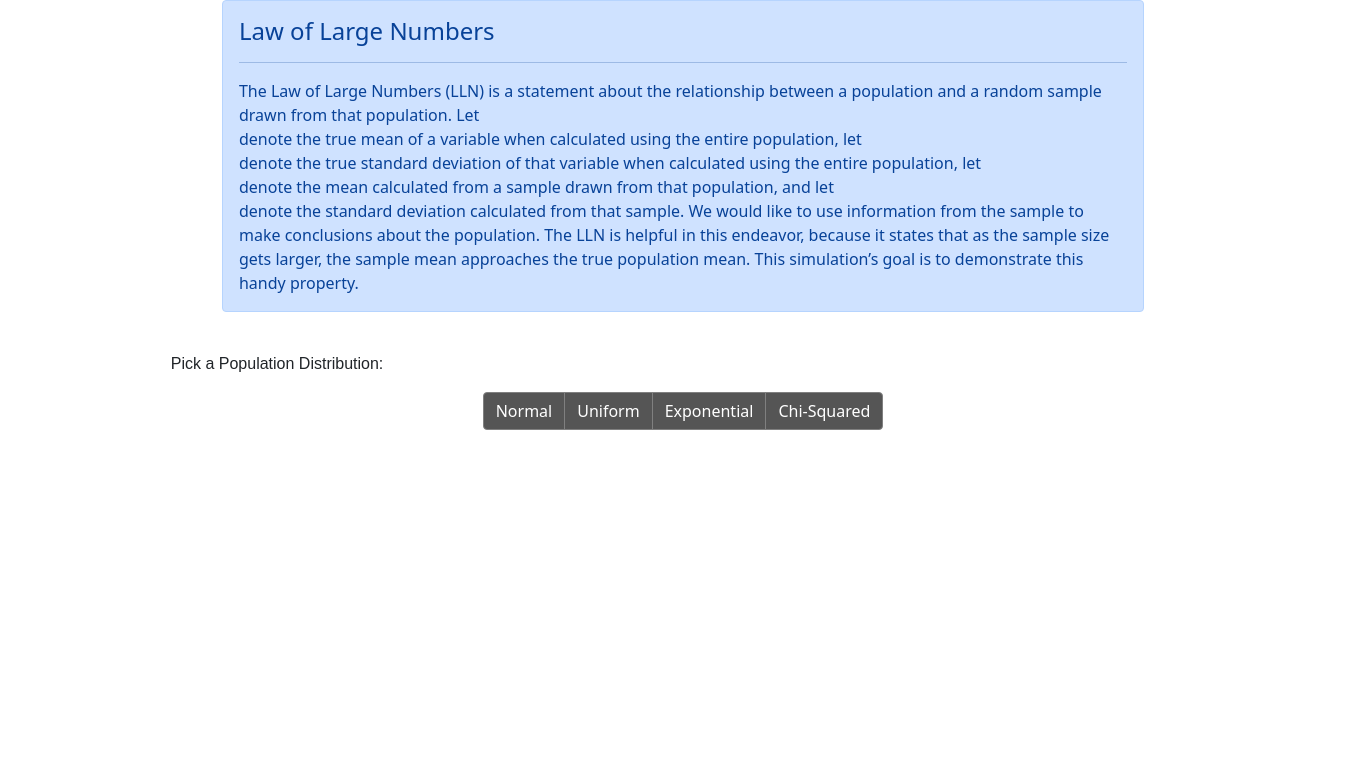
Scenario: LawOfLargeNumbers integration tests › selecting population shape reveals module contents
This screenshot has width=1366, height=768.
Click the button "Normal" at (524,411), box [483,392,565,430]
(page scrolled)
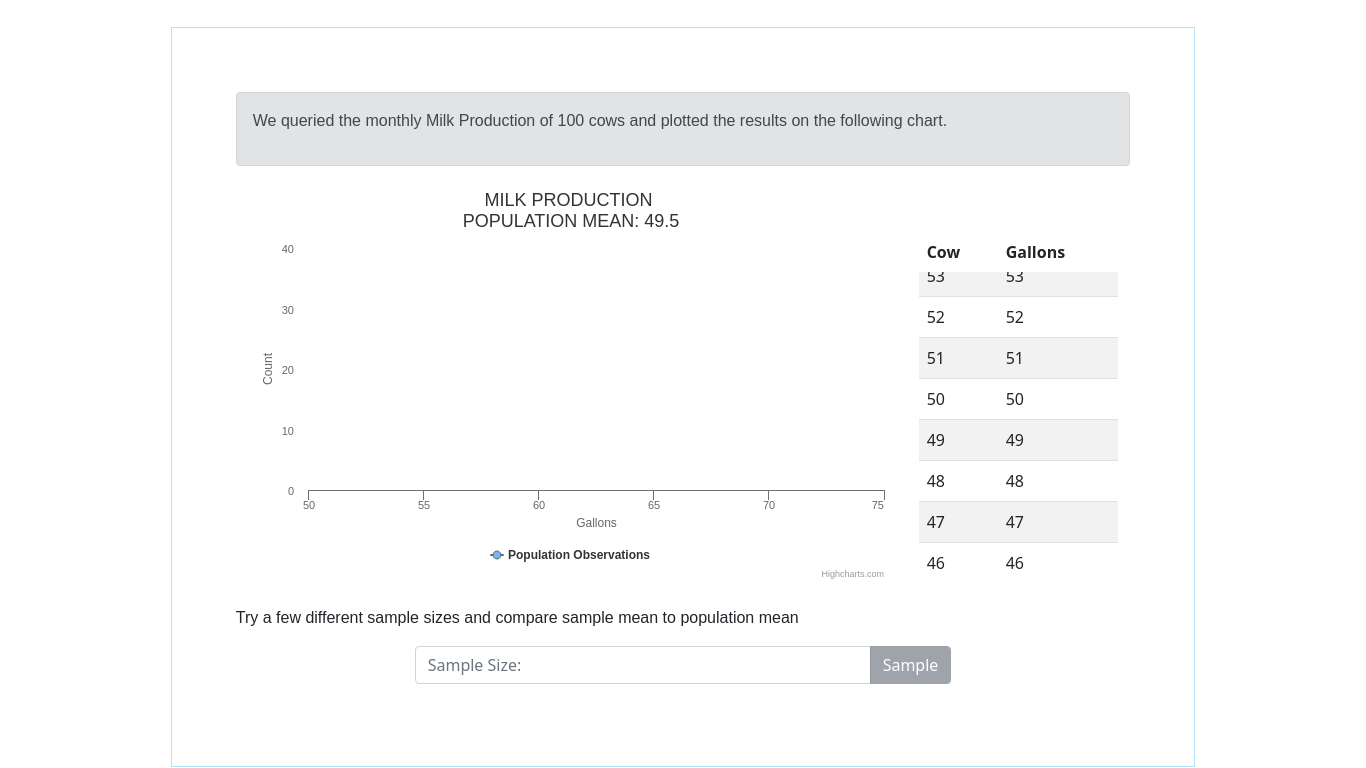
Now the element with test id "lln-sim" is shown, box [236,92,1130,684]
